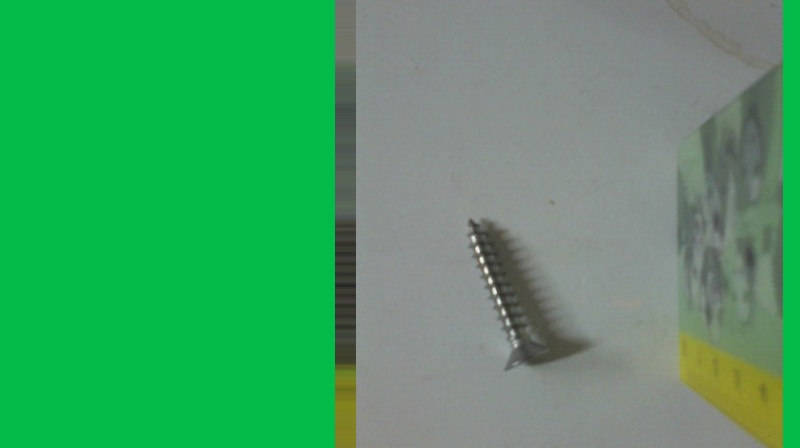S001: (460, 213, 549, 374)
